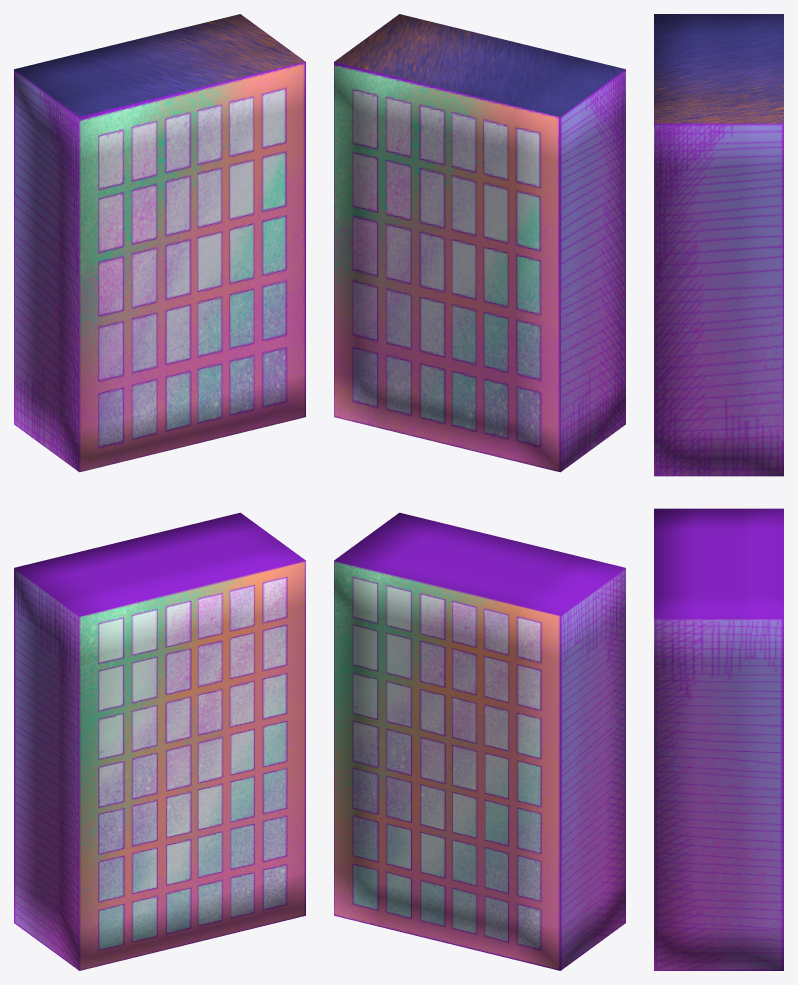
File: Build_C.obj
3 renders of one model, left to right at view 1: azimuth 30°, elevation 25°; view 2: azimuth 150°, elevation 25°; view 3: azimuth 270°, elevation 25°, orthographic.
Parts seen in each view (by area): view 1: Build_C_Bot; view 2: Build_C_Bot; view 3: Build_C_Bot.
Boxes of the visible parts, x1,y1,x2,y2 form: Build_C_Bot: [14, 14, 305, 970]; Build_C_Bot: [334, 14, 625, 970]; Build_C_Bot: [654, 14, 783, 970].
Bounding box in the file's own units: 40 × 144 × 20.
1 material, 1 textured.
